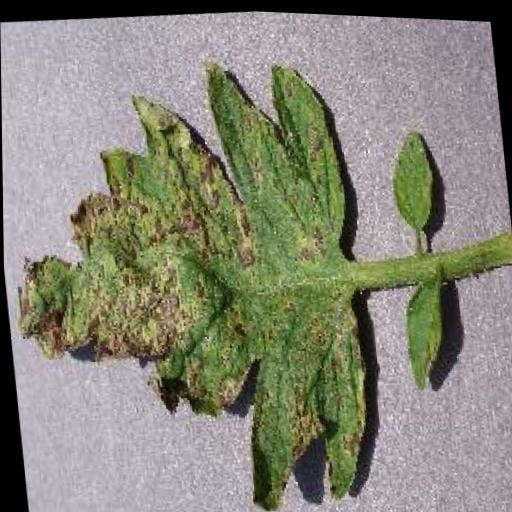Septoria: (1, 47, 380, 512)
